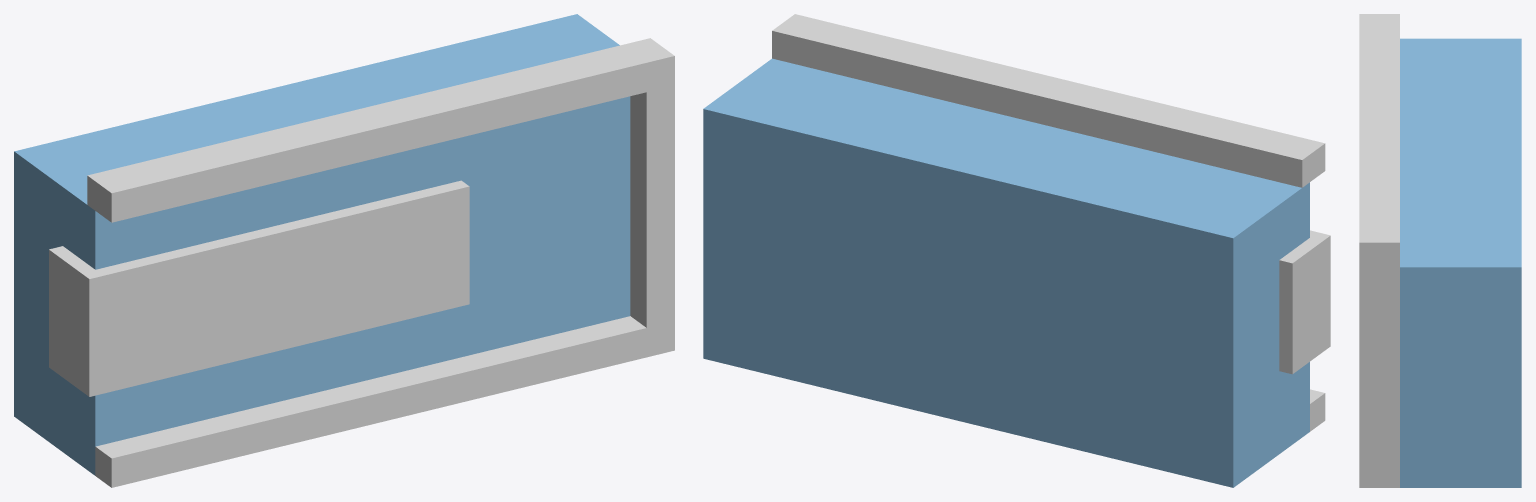
Rendered from counters-set-04.glb.
3 renders of one model, left to right at view 1: azimuth 30°, elevation 25°; view 2: azimuth 150°, elevation 25°; view 3: azimuth 270°, elevation 25°, orthographic. The views are drawn at different scales.
Parts seen in each view (by area): view 1: 3DGeom-1, 3DGeom-2; view 2: 3DGeom-2, 3DGeom-1; view 3: 3DGeom-2, 3DGeom-1.
Part boxes in pixels (x1,y1,x2,y2): 3DGeom-1: (49, 38, 674, 487); 3DGeom-2: (14, 14, 630, 475); 3DGeom-2: (703, 58, 1309, 487); 3DGeom-1: (772, 14, 1330, 431); 3DGeom-2: (1400, 38, 1521, 487); 3DGeom-1: (1359, 14, 1399, 487).
Bounding box in the file's own units: 2.05 × 1 × 0.6.
